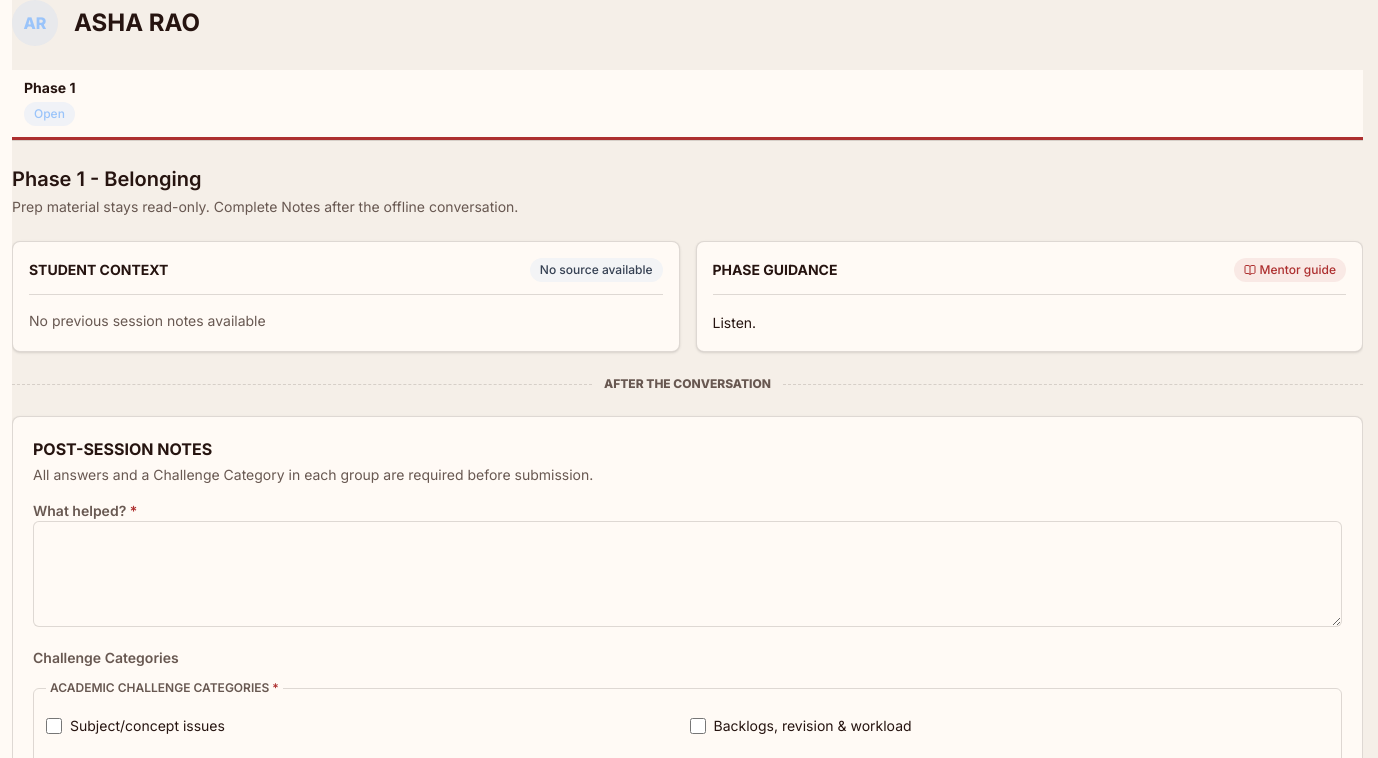
Scenario: StudentPhaseWorkspace › preserves local text without retrying over a stale server revision
The image size is (1378, 758).
Type "Keep this text" into the text box labelled "What helped?" at (688, 574), box [33,521,1342,627]
Wait 750 ms
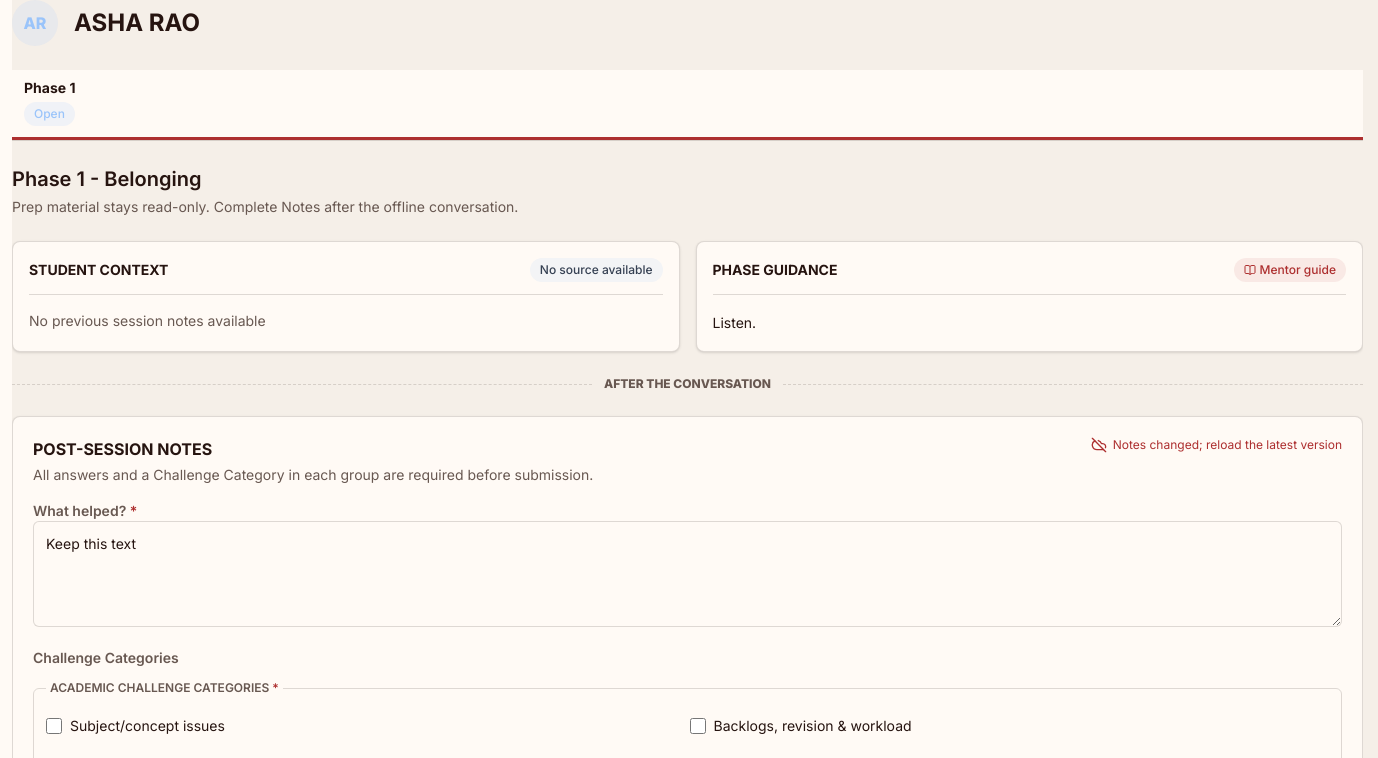
Check: the text "Notes changed; reload the latest version" is shown, box [1091,437,1342,453]
